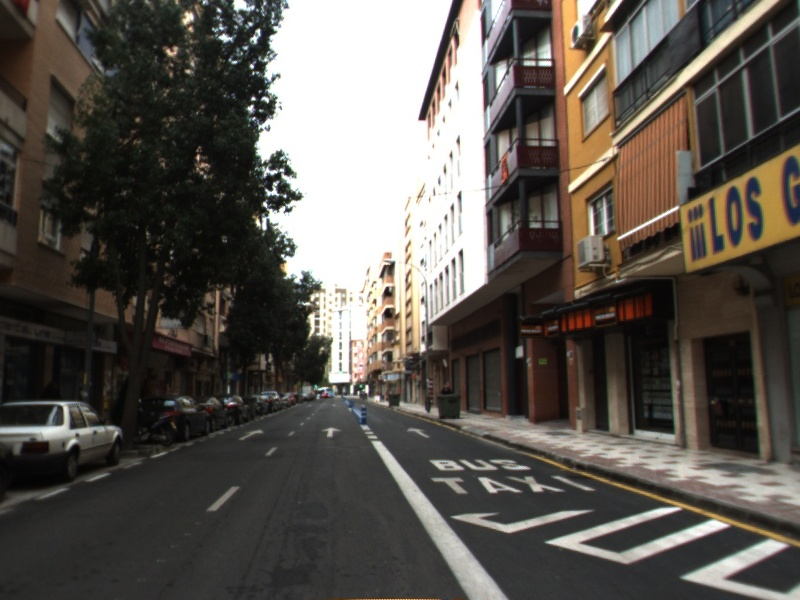STRAIGHT: (236, 427, 266, 442), (405, 425, 434, 440), (320, 425, 343, 439)
